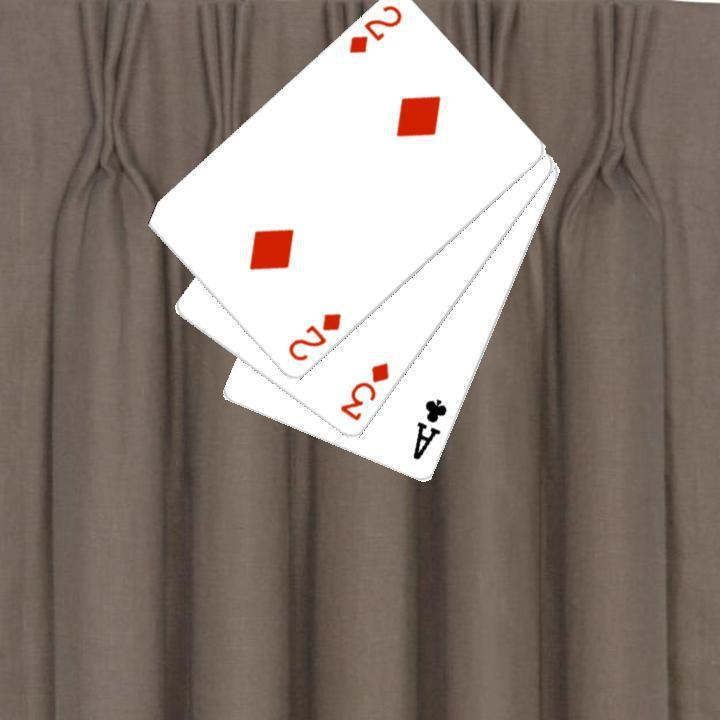2: (344, 1, 405, 57), (283, 309, 344, 364)
3: (335, 358, 392, 424)
A: (408, 395, 450, 463)
